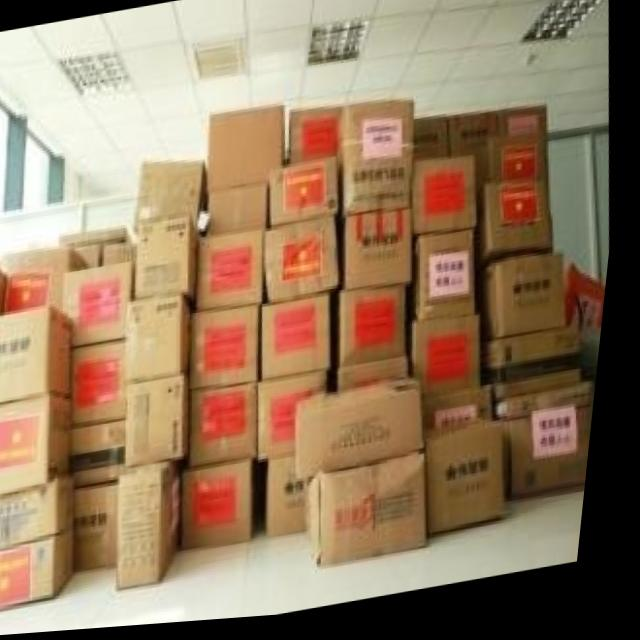box: (318, 456, 440, 575), (304, 381, 436, 487), (436, 426, 516, 543), (341, 105, 418, 224), (508, 416, 603, 507), (128, 462, 192, 594), (0, 395, 81, 497), (0, 308, 80, 406), (483, 261, 570, 347), (0, 529, 86, 613), (480, 187, 558, 279), (490, 337, 589, 409), (193, 460, 270, 551), (211, 109, 289, 196), (269, 222, 346, 307), (0, 477, 86, 552), (267, 375, 337, 467), (68, 263, 141, 350), (268, 297, 339, 386), (198, 384, 268, 470), (347, 212, 419, 295), (142, 214, 205, 308), (416, 322, 489, 403), (343, 288, 414, 371), (134, 376, 198, 468), (418, 237, 482, 329), (132, 298, 199, 385), (198, 309, 267, 392), (202, 233, 270, 313), (8, 250, 94, 313), (417, 162, 484, 241), (138, 165, 212, 236), (273, 161, 345, 232), (79, 342, 135, 428), (452, 118, 501, 199), (84, 481, 128, 571), (79, 420, 135, 488), (276, 461, 322, 540), (504, 390, 601, 426), (291, 111, 346, 172), (431, 392, 504, 437), (212, 187, 273, 240), (491, 142, 551, 191), (344, 362, 417, 397), (417, 123, 453, 169), (500, 113, 550, 146), (64, 230, 138, 246), (107, 243, 141, 265), (78, 245, 108, 268), (0, 265, 12, 317)
